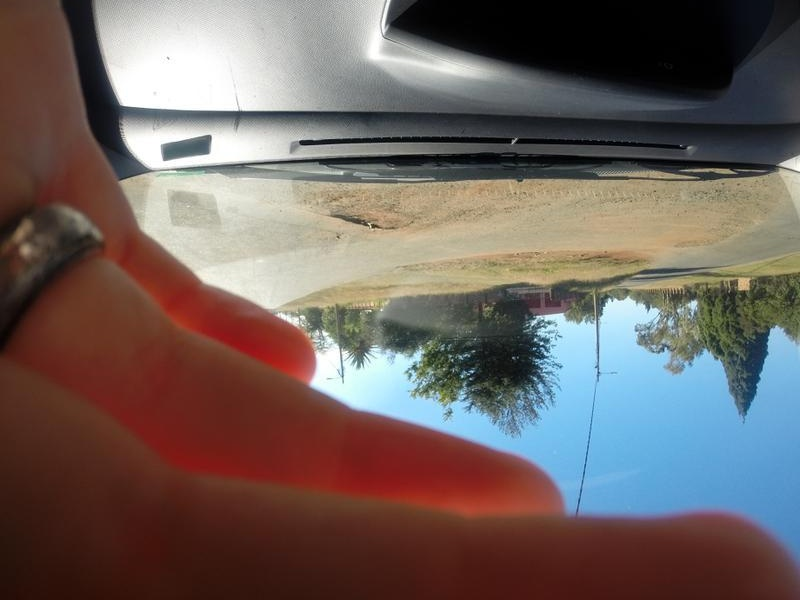pothole: (320, 194, 429, 238)
